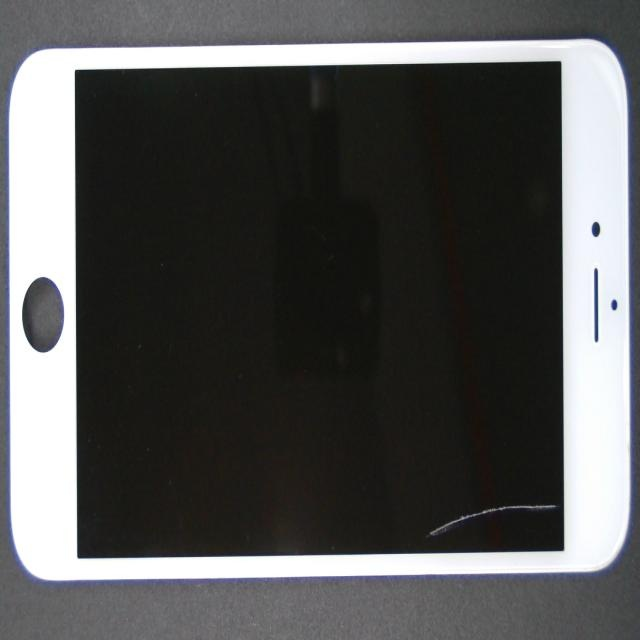scratch: (355, 240, 640, 640)
